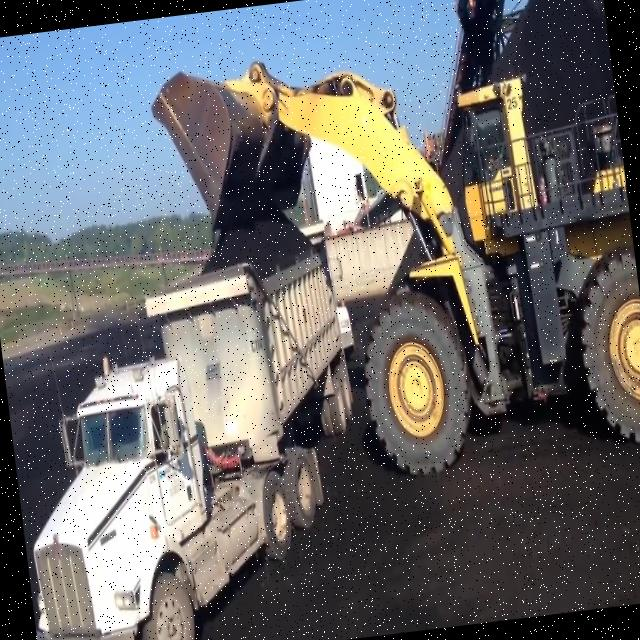Dump Truck: (0, 247, 388, 640)
Loader: (135, 0, 640, 507)
